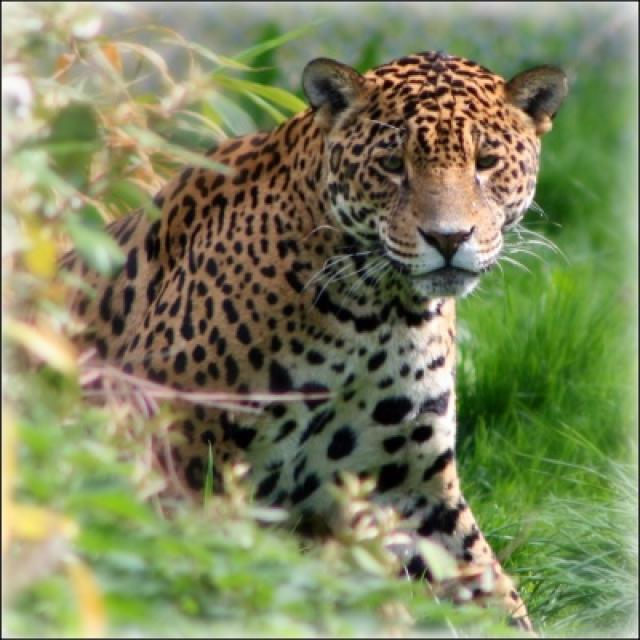Jaguar: (70, 53, 570, 613)
